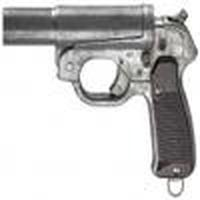gun: (2, 5, 199, 200)
